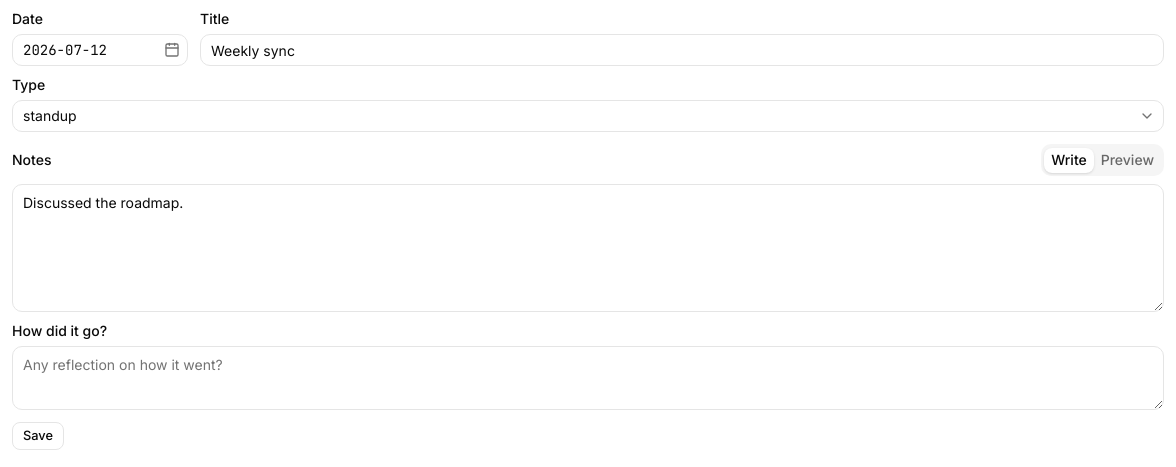
Test: MeetingNoteDetailsForm › renders a markdown preview of the notes when the Preview tab is selected
Click the tab "Preview".
click(1127, 160)  # box [1094,148,1161,172]
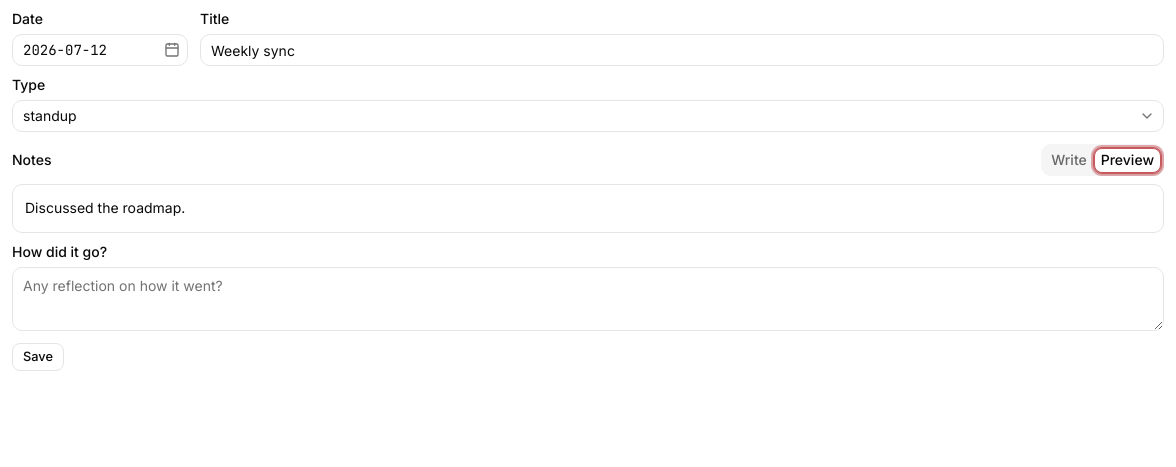
Check: the text "Discussed the roadmap." is shown, box [25,199,185,216]
